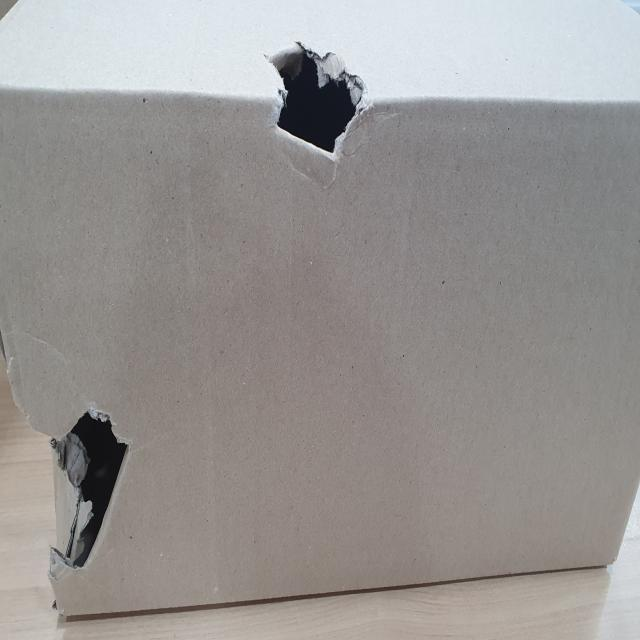hole: (42, 390, 133, 574), (258, 34, 372, 173)
